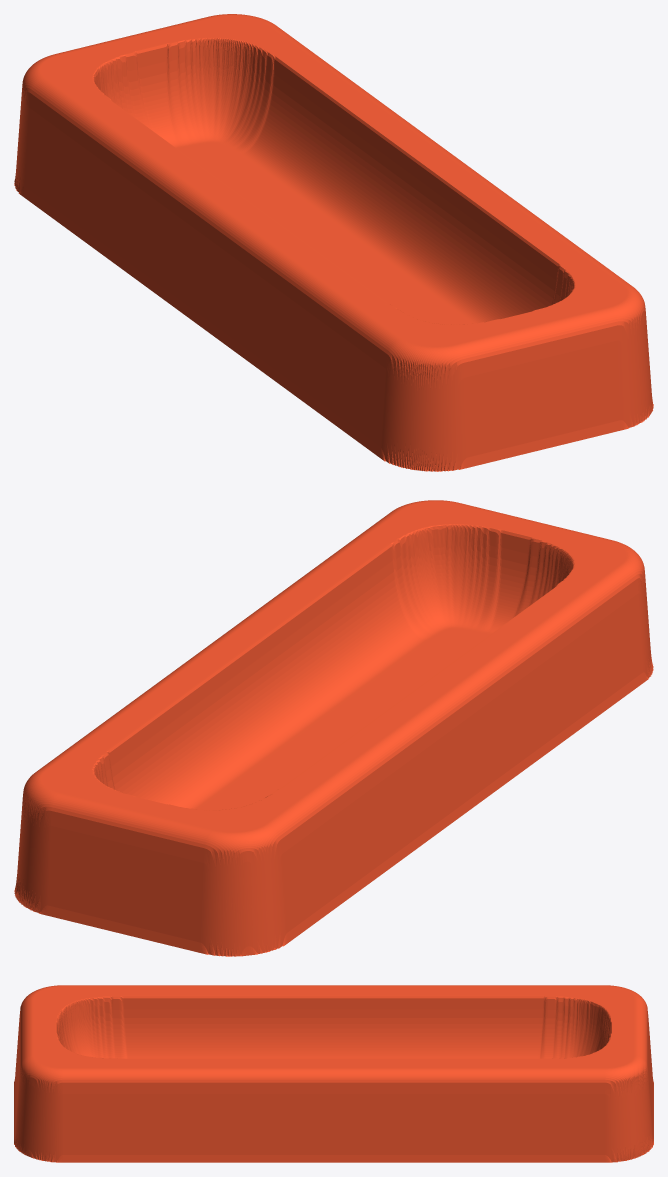
File: mold.glb
3 views of the same model, one above another, from view 1: azimuth 30°, elevation 25°; view 2: azimuth 150°, elevation 25°; view 3: azimuth 270°, elevation 25° (orthographic). The views are drawn at different scales.
Parts seen in each view (by area): view 1: geometry_0; view 2: geometry_0; view 3: geometry_0.
Part boxes in pixels (x1=…): geometry_0: x1=14, y1=14, x2=653, y2=471; geometry_0: x1=14, y1=500, x2=653, y2=956; geometry_0: x1=14, y1=985, x2=653, y2=1162.
Bounding box in the file's own units: 0.0428 × 0.0175 × 0.1178.
